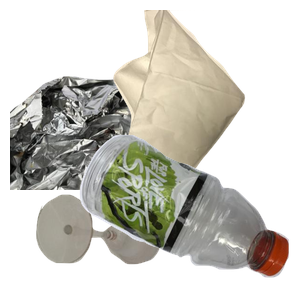glass: (34, 192, 187, 300)
metal: (10, 73, 212, 253)
plastic: (77, 132, 300, 300)
trash: (111, 10, 300, 190)
